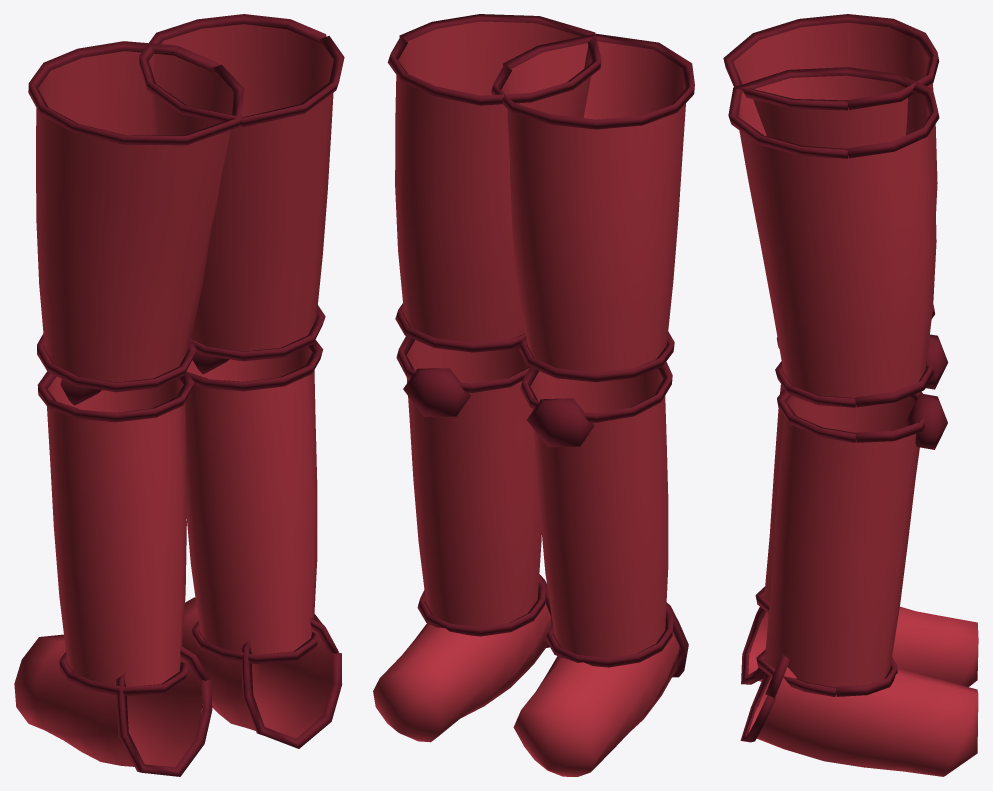
Rendered from crimtane_greaves.glb.
3 renders of one model, left to right at view 1: azimuth 30°, elevation 25°; view 2: azimuth 150°, elevation 25°; view 3: azimuth 270°, elevation 25°, orthographic. The views are drawn at different scales.
Visible parts, largest first — view 1: crimtane_greaves_cuisse.L; view 2: crimtane_greaves_cuisse.L; view 3: crimtane_greaves_cuisse.L.
Boxes of the visible parts, x1,y1,x2,y2 form: crimtane_greaves_cuisse.L: (14, 14, 344, 776); crimtane_greaves_cuisse.L: (373, 14, 694, 776); crimtane_greaves_cuisse.L: (723, 14, 978, 776).
Bounding box in the file's own units: 0.4249 × 0.9563 × 0.3366.
